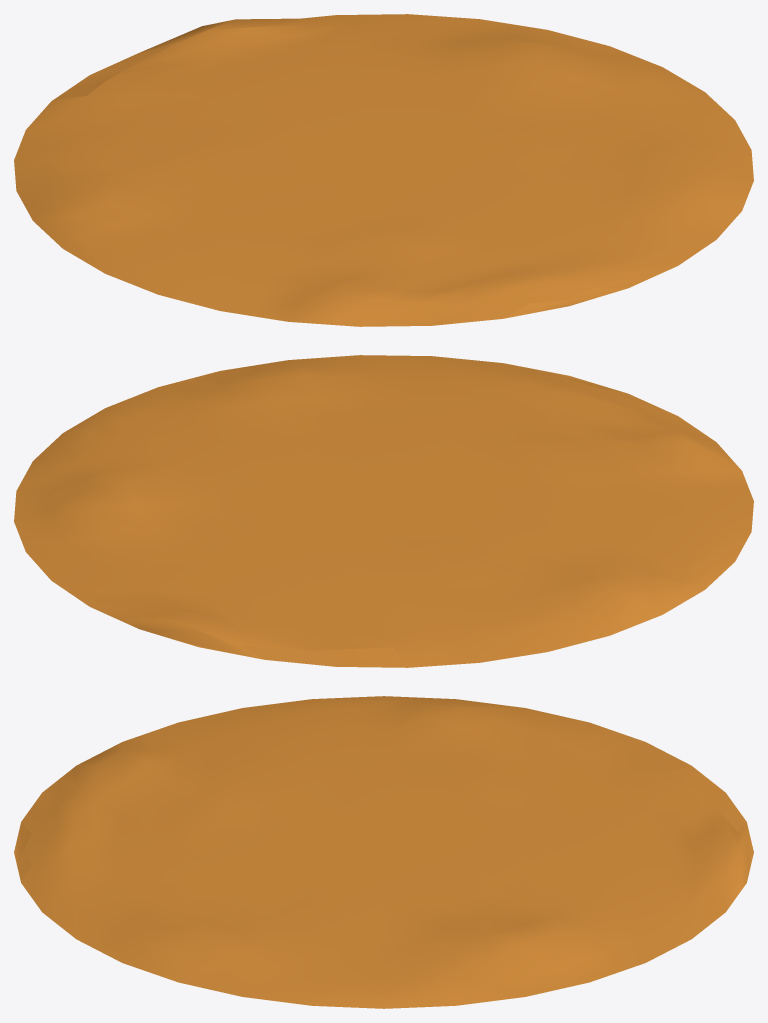
Rendered from Ground.obj.
3 renders of one model, top to bottom at view 1: azimuth 30°, elevation 25°; view 2: azimuth 150°, elevation 25°; view 3: azimuth 270°, elevation 25°, orthographic.
Visible parts, largest first — view 1: Ground; view 2: Ground; view 3: Ground.
Boxes of the visible parts, x1,y1,x2,y2 form: Ground: (14, 14, 753, 326); Ground: (14, 355, 753, 667); Ground: (14, 696, 753, 1008).
Size of the model in its own units: 2 by 0.054 by 2.
1 material, 1 textured.
